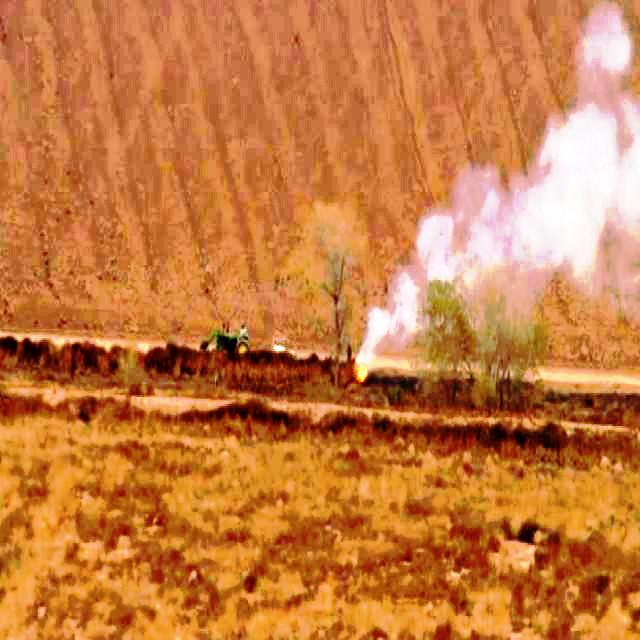api: (352, 368, 368, 387)
asap: (377, 1, 640, 388), (352, 302, 409, 367)
